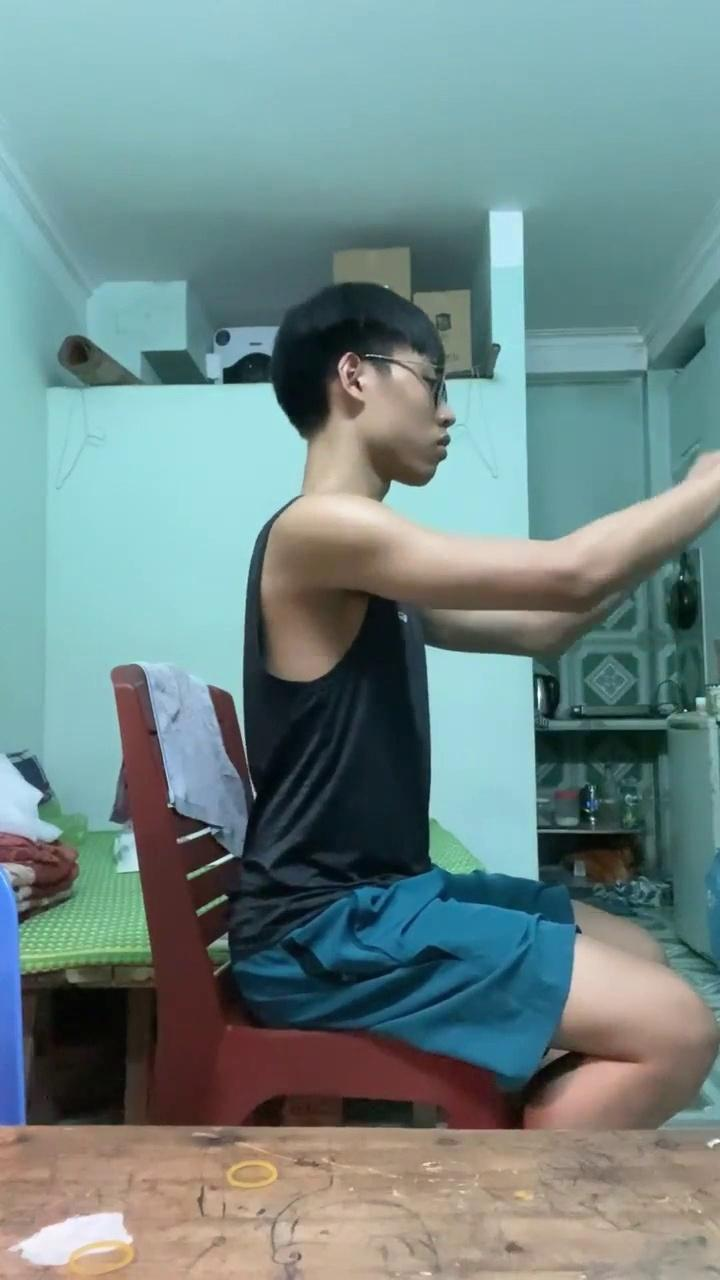GoodPosture: (230, 283, 719, 1127)
